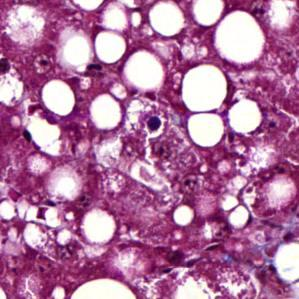steatosis: (181, 63, 231, 114), (122, 51, 165, 89), (40, 79, 78, 116), (88, 95, 125, 132), (82, 209, 119, 243)
